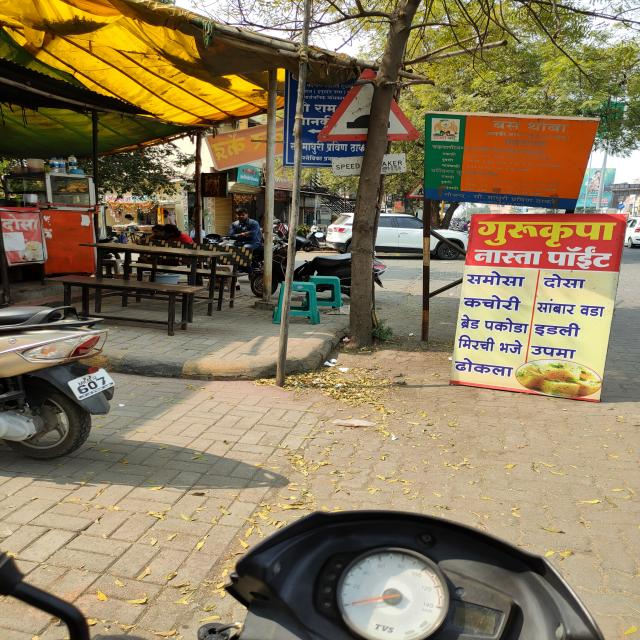HUMP_OR_ROUGH_ROAD: (317, 68, 422, 142)
